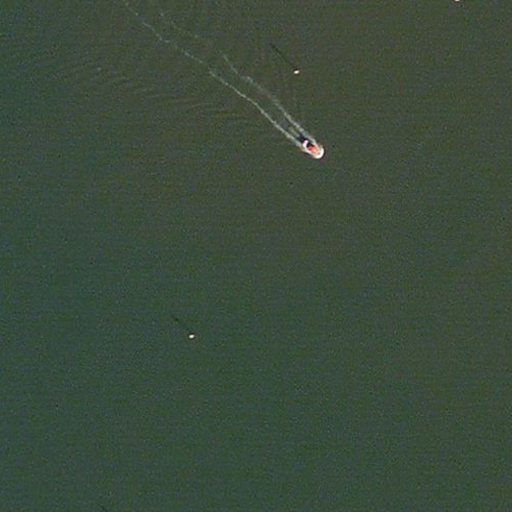ship: (296, 132, 328, 163)
